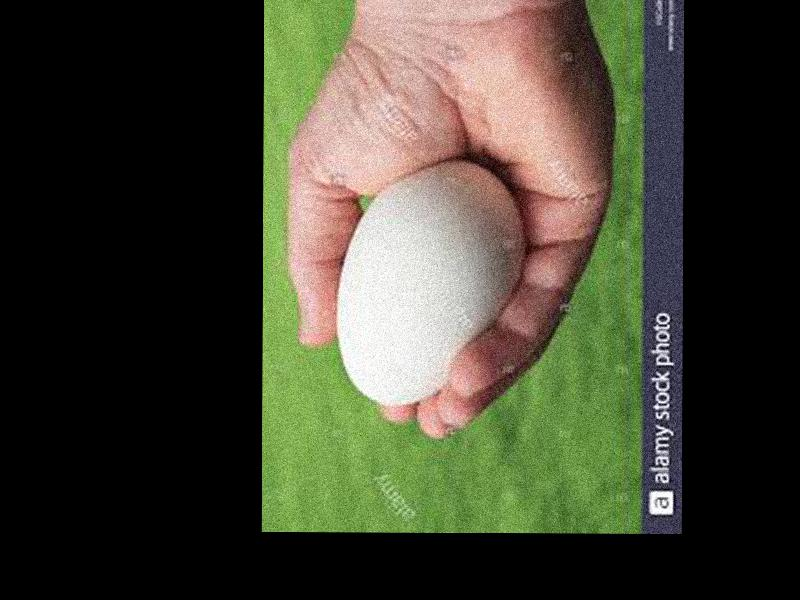Eggs: (334, 155, 526, 404)
